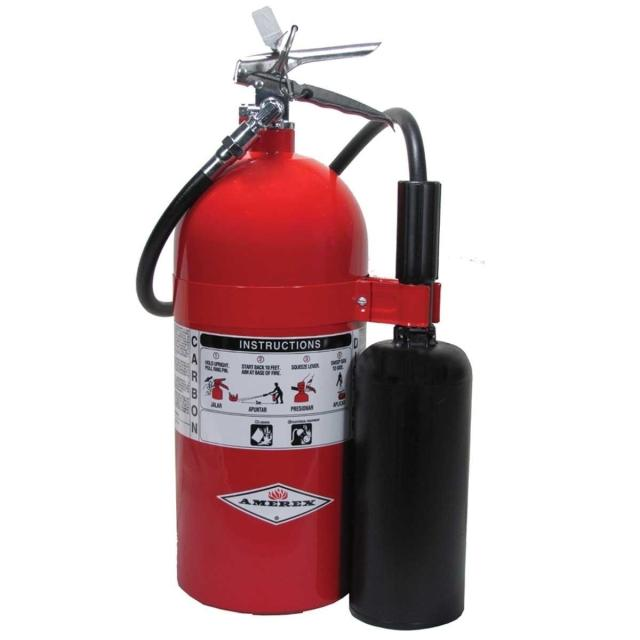fire_extinguisher: (130, 3, 477, 634)
